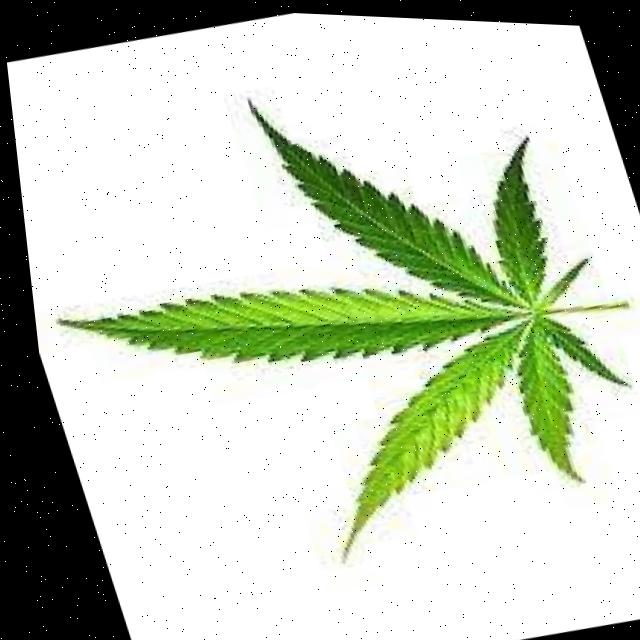cannabis: (57, 101, 631, 553)
